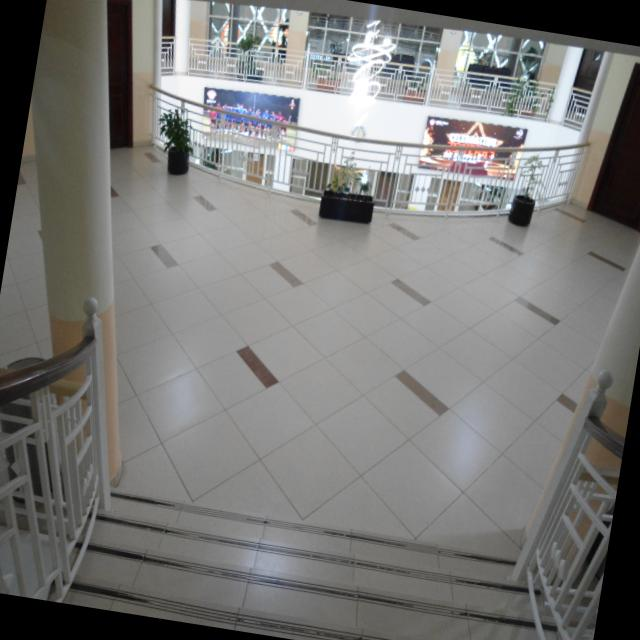board: (185, 80, 308, 164), (412, 113, 524, 188)
bush: (306, 148, 386, 232), (150, 105, 203, 179), (508, 144, 548, 235)
door: (77, 0, 163, 158), (588, 43, 640, 239), (150, 0, 189, 75), (566, 52, 600, 125)
light: (334, 1, 404, 117)
pillar: (0, 0, 189, 485), (531, 89, 640, 597)
railing: (140, 78, 592, 230), (145, 25, 598, 138), (0, 257, 143, 608), (496, 348, 637, 640)
stairs: (56, 473, 576, 640)
